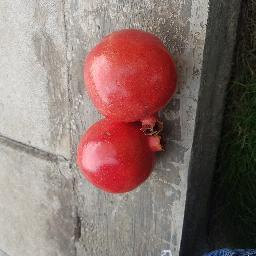Good_pomegranate: (74, 30, 184, 128), (81, 115, 171, 198)
